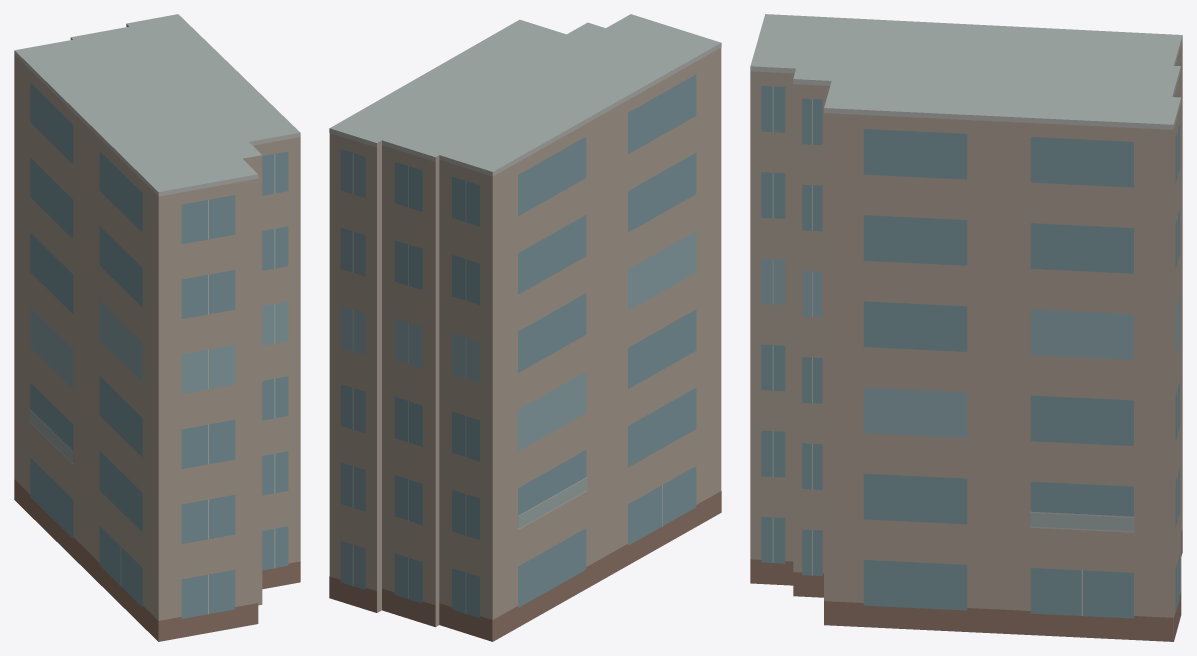
The model's file is survey-upis-32918996.glb.
3 views of the same model, side by side, from view 1: azimuth 30°, elevation 25°; view 2: azimuth 150°, elevation 25°; view 3: azimuth 270°, elevation 25° (orthographic). The views are drawn at different scales.
Visible parts, largest first — view 1: survey-upis-32918996.tmp; view 2: survey-upis-32918996.tmp; view 3: survey-upis-32918996.tmp.
Boxes of the visible parts, x1,y1,x2,y2 form: survey-upis-32918996.tmp: (14,14,300,641); survey-upis-32918996.tmp: (329,14,721,641); survey-upis-32918996.tmp: (750,14,1182,641).
Bounding box in the file's own units: 11.45 × 24.9 × 18.87.
